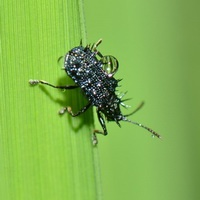insect: (29, 39, 160, 144)
